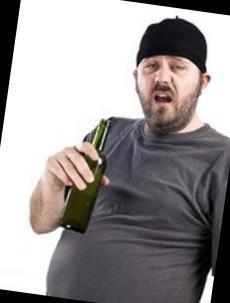Drunk: (138, 56, 194, 123)
